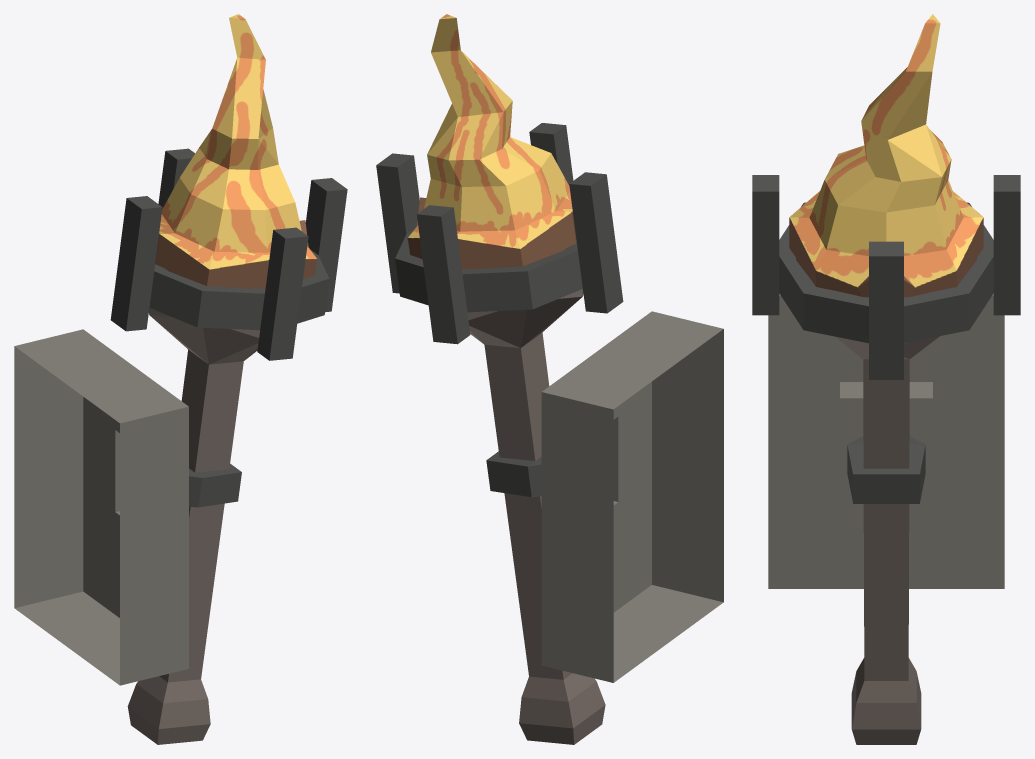
Rendered from 3D_Torch_flame_01.fbx.
3 views of the same model, side by side, from view 1: azimuth 30°, elevation 25°; view 2: azimuth 150°, elevation 25°; view 3: azimuth 270°, elevation 25° (orthographic). The views are drawn at different scales.
Visible parts, largest first — view 1: SM_Torch_stand1; view 2: SM_Torch_stand1; view 3: SM_Torch_stand1.
Part boxes in pixels (x1,y1,x2,y2): SM_Torch_stand1: [14, 14, 347, 744]; SM_Torch_stand1: [376, 14, 723, 744]; SM_Torch_stand1: [752, 14, 1020, 744].
Size of the model in its own units: 54.4 by 130 by 41.44.
Materials: 1 (1 with a texture image).
